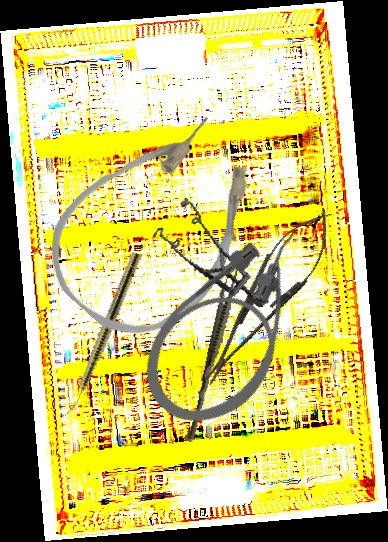Cannula: (24, 89, 295, 364), (119, 207, 351, 448)
Handpiece: (64, 250, 143, 419)
Needle Holder: (185, 196, 348, 398)
Speculum: (146, 185, 267, 328)
Tissue Forceps: (184, 262, 241, 444)
